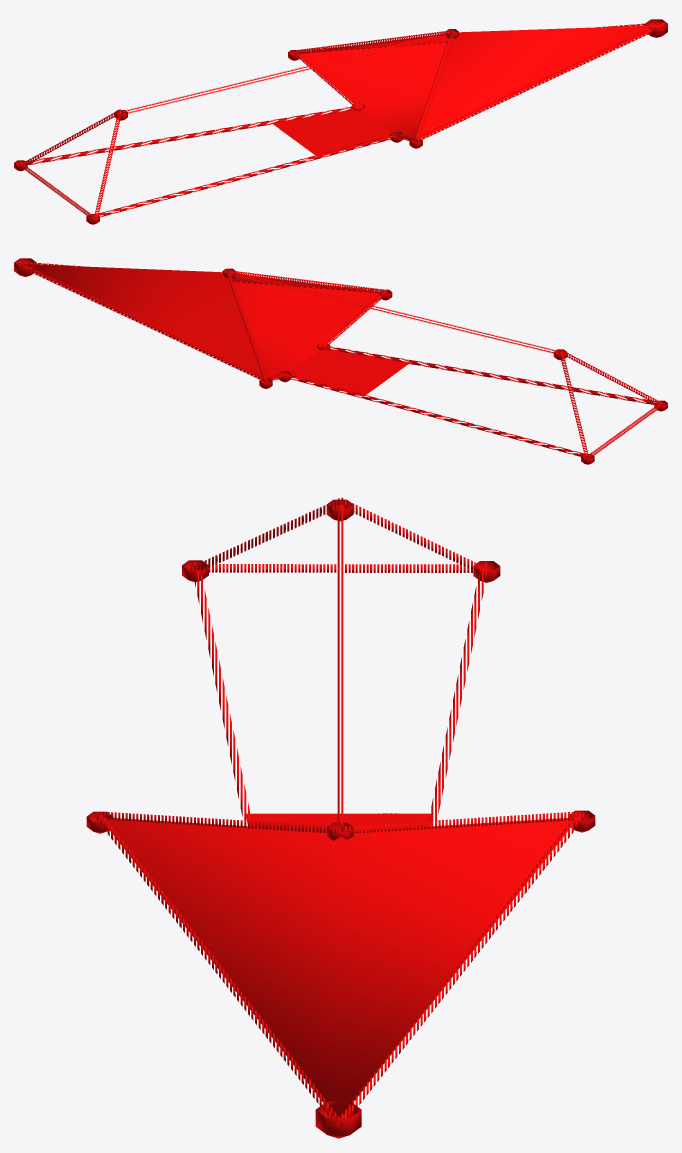
Rendered from GoodStrelka.FBX.
The picture shows the model from 3 angles, top to bottom: view 1: azimuth 30°, elevation 25°; view 2: azimuth 150°, elevation 25°; view 3: azimuth 270°, elevation 25°; orthographic projection. The views are drawn at different scales.
Visible parts, largest first — view 1: GoodStrelka; view 2: GoodStrelka; view 3: GoodStrelka.
Part boxes in pixels (x1=…): GoodStrelka: x1=14, y1=19, x2=667, y2=224; GoodStrelka: x1=14, y1=258, x2=667, y2=464; GoodStrelka: x1=86, y1=497, x2=595, y2=1138.
Size of the model in its own units: 163 by 21.4 by 58.4.
Materials: 1 (1 with a texture image).
